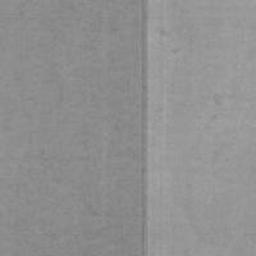Welding line: (140, 0, 150, 256)
